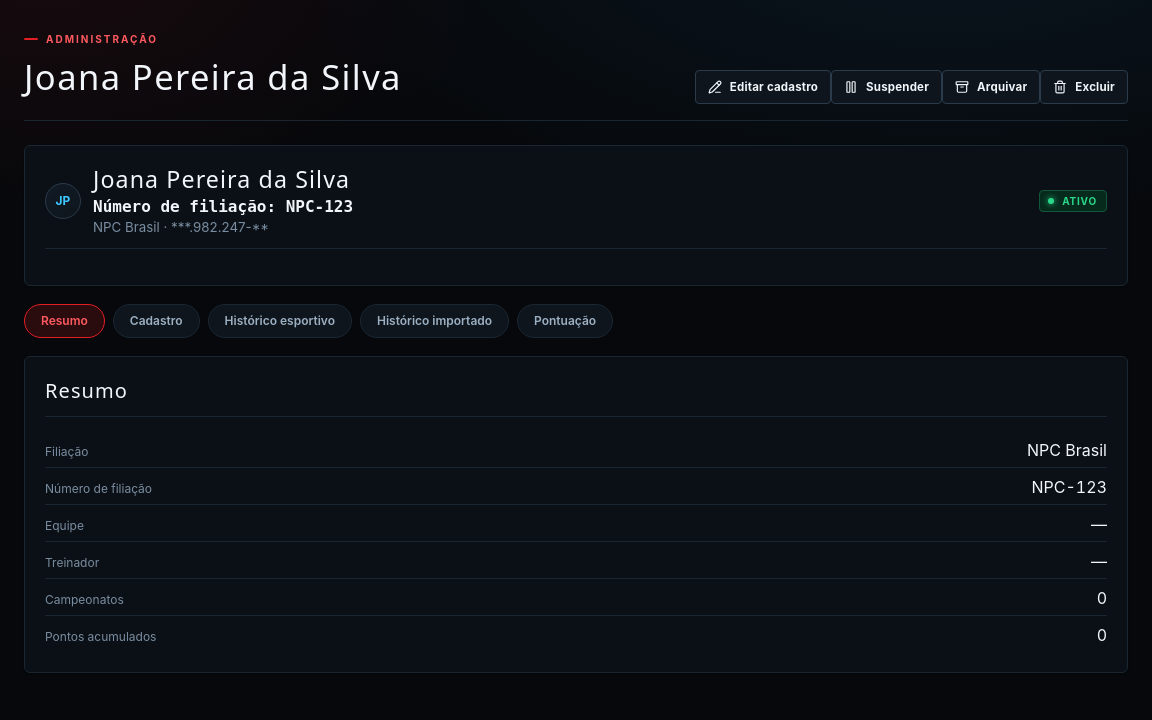
Test: a coluna de pontos diz a pontuação oficial, não a do arquivo › sem evento no lançamento, o nome do arquivo ainda serve
Click the button "Histórico importado".
click(435, 321)  # box [360, 304, 509, 338]
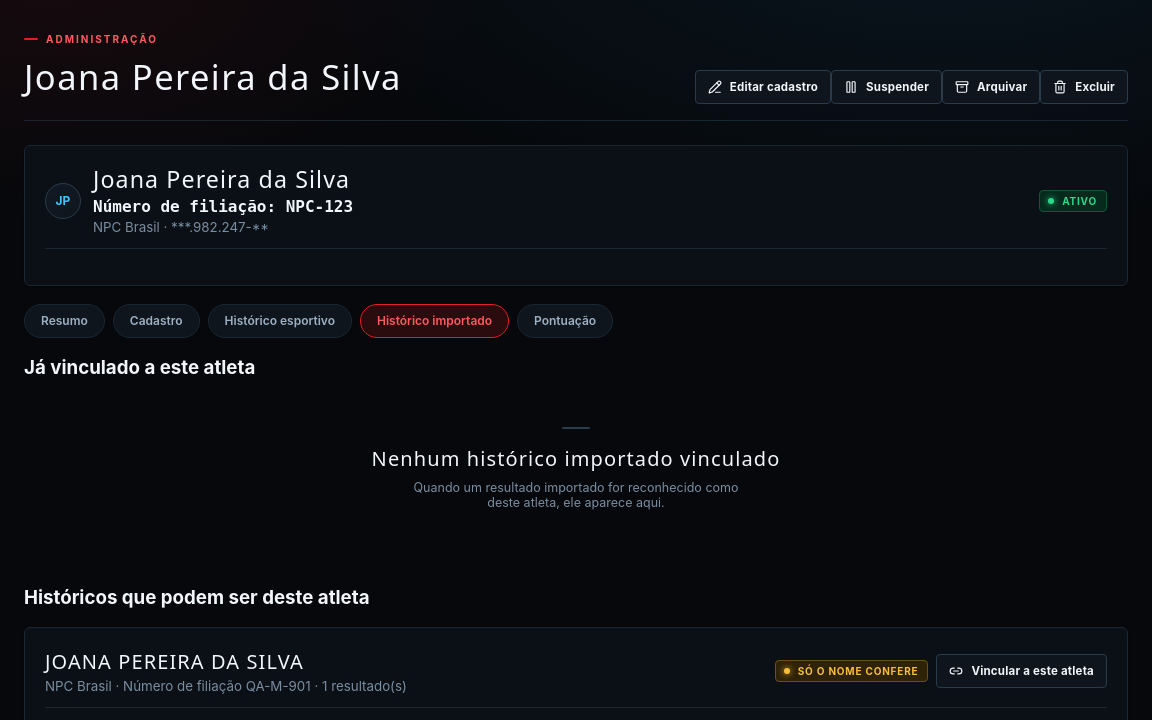
Click the button "Vincular a este atleta".
click(1022, 671)  # box [936, 654, 1107, 688]
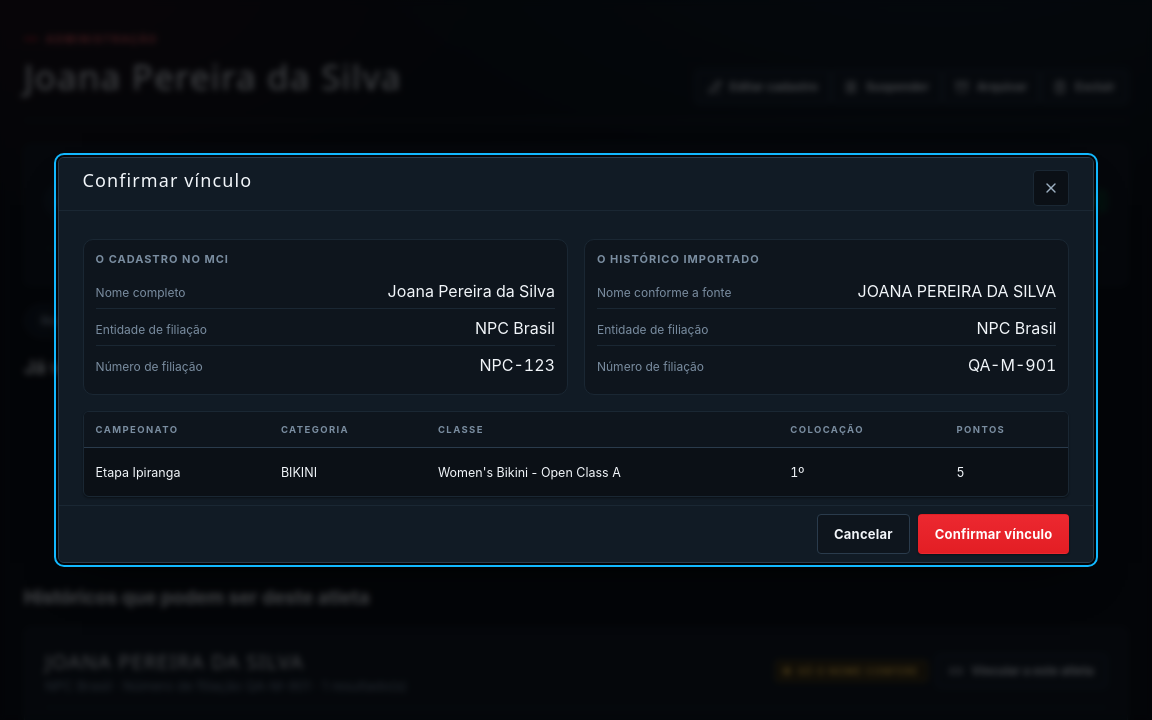
Expected: the text "Etapa Ipiranga" is shown, [84, 448, 269, 496]
